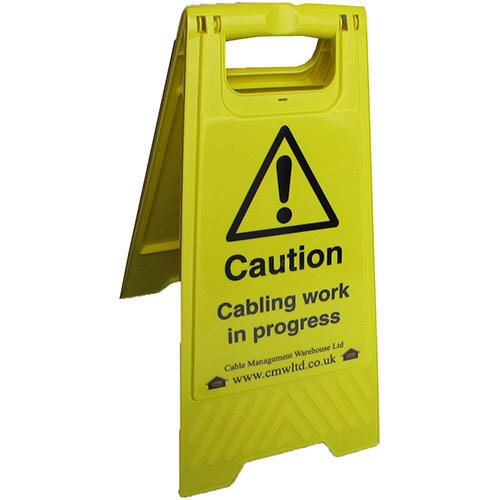caution: (215, 121, 341, 245)
